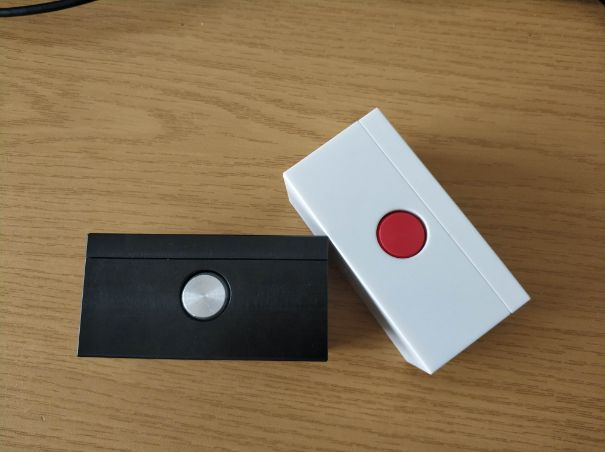black+black+silver: (76, 232, 331, 362)
white+white+red: (281, 107, 534, 375)
